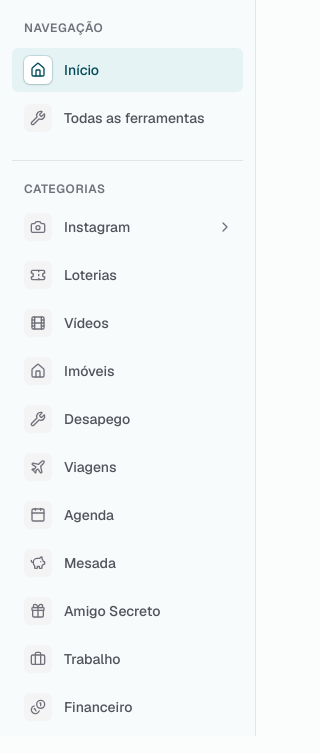
Test case: Menu Instagram em categorias (Manual / Automatizado) › o botão fecha de novo
This screenshot has width=320, height=753.
Click the button named "Abrir opções do Instagram". click: (225, 227)
box: [207, 209, 243, 245]
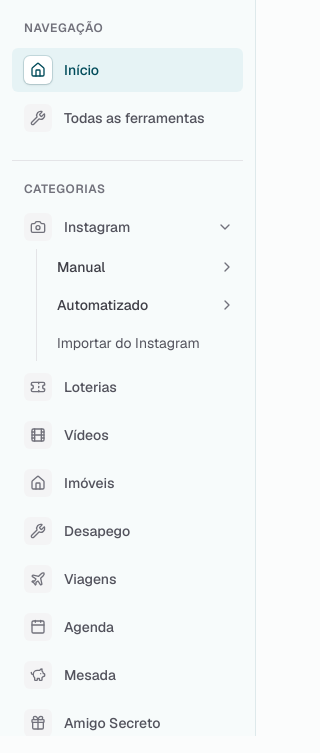
Click the button named "Fechar opções do Instagram". click: (225, 227)
box: [207, 209, 243, 245]
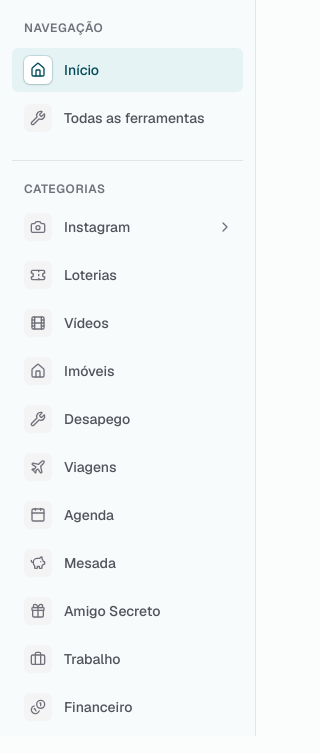
expect the button "Manual" is gone: met
